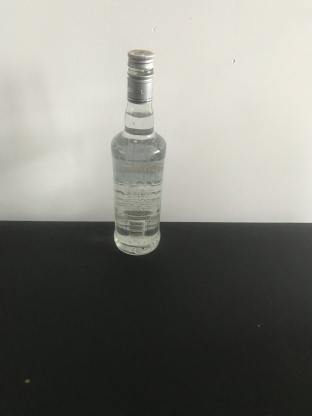nakretka: (125, 48, 155, 104)
